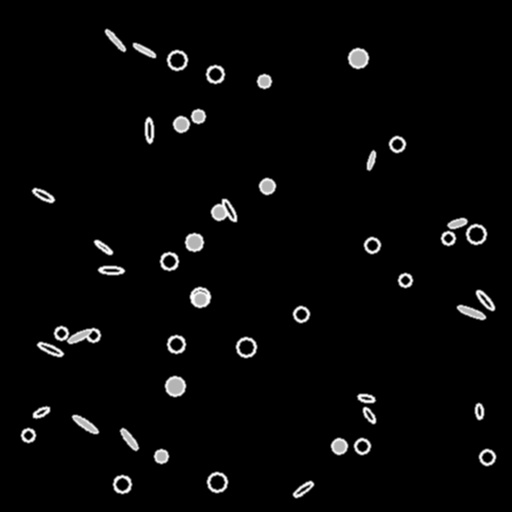pseudomonas: (71, 413, 99, 435), (104, 28, 126, 52), (474, 289, 496, 311), (119, 427, 139, 451), (66, 327, 92, 345), (457, 304, 485, 320), (37, 341, 63, 357), (292, 480, 314, 498), (132, 42, 156, 58), (31, 187, 55, 203), (221, 198, 237, 222), (93, 239, 113, 255), (361, 406, 377, 424), (32, 405, 50, 419), (447, 217, 467, 229), (145, 117, 153, 143), (366, 151, 376, 169), (357, 393, 375, 403), (99, 267, 123, 273), (475, 403, 483, 419)
synechocystis: (191, 288, 209, 306), (166, 377, 184, 395), (467, 225, 485, 243), (208, 473, 226, 491), (168, 51, 186, 69), (349, 49, 367, 67), (237, 338, 255, 356), (207, 66, 223, 82), (186, 234, 202, 250), (114, 476, 130, 492), (168, 336, 184, 352), (161, 253, 177, 269), (390, 137, 404, 151), (365, 238, 379, 252), (260, 179, 274, 193), (480, 450, 494, 464), (212, 205, 226, 219), (294, 307, 308, 321), (332, 439, 346, 453), (174, 117, 188, 131), (193, 292, 207, 306), (355, 439, 369, 453), (22, 429, 34, 441), (442, 232, 454, 244), (399, 274, 411, 286), (87, 329, 99, 341), (155, 450, 167, 462), (55, 327, 67, 339), (258, 75, 270, 87), (192, 110, 204, 122)
